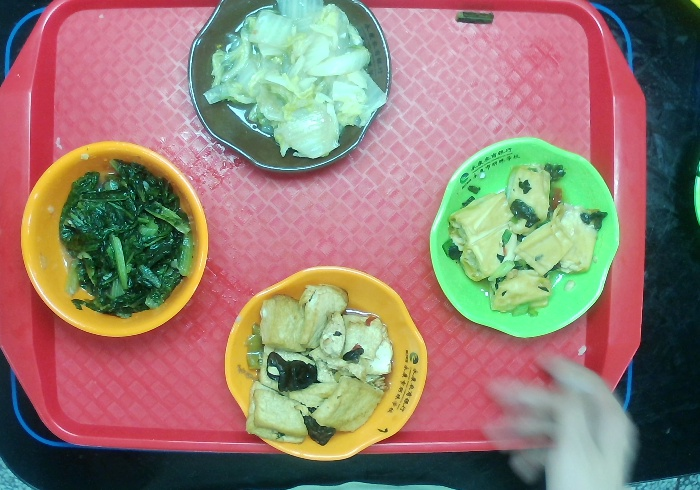YKMZ-Ju_Se_Ao_Bian_Wan: (220, 262, 433, 465)
YKMZ-Ju_Se_Yuan_Wan: (12, 135, 212, 341)
YKMZ-Ka_Fei_Ao_Bian_Wan: (184, 1, 396, 178)
YKMZ-Lv_Se_Ao_Bian_Wan: (425, 133, 624, 341)
